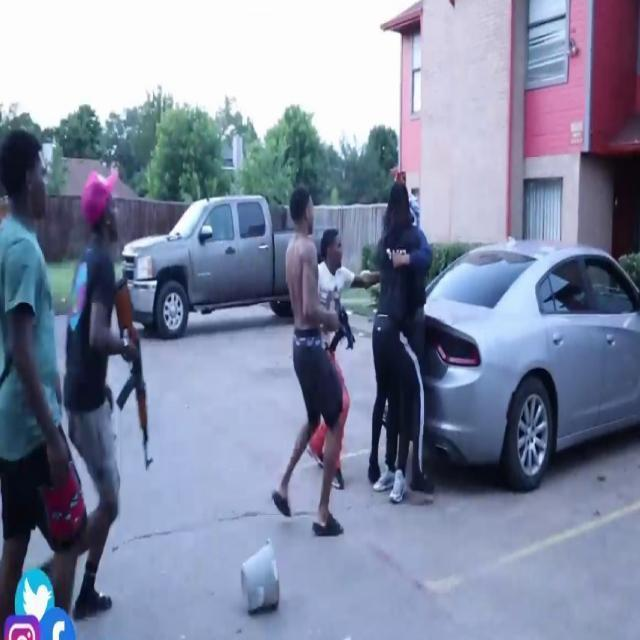Handgun: (328, 293, 360, 353)
Rifle: (107, 278, 161, 483)
